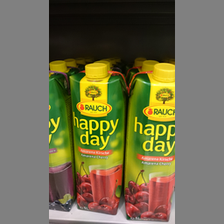juice: (68, 63, 127, 216), (126, 63, 175, 222), (50, 61, 72, 210)
